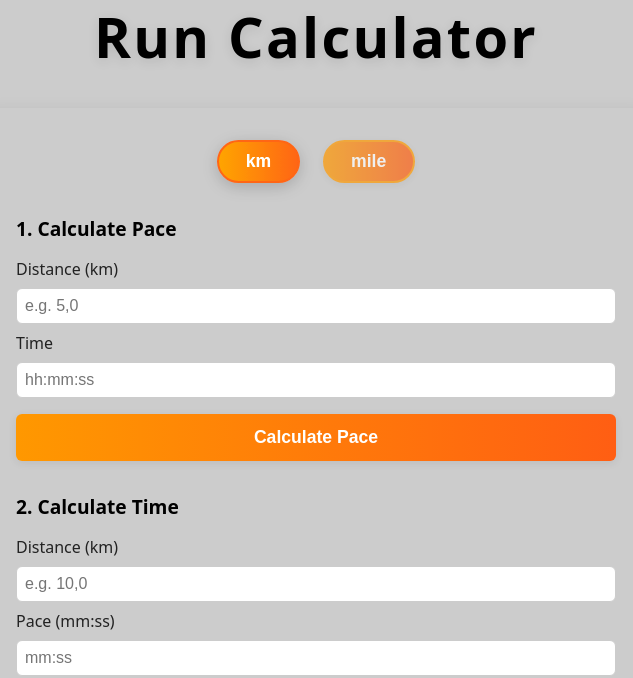
Test: Accessibility - aria-live regions › Pace result live region updates and has aria-live="polite"
This screenshot has width=633, height=678.
In the 1st field labelled "Distance (km)": (316, 306) [16, 288, 616, 324], type "10,0"
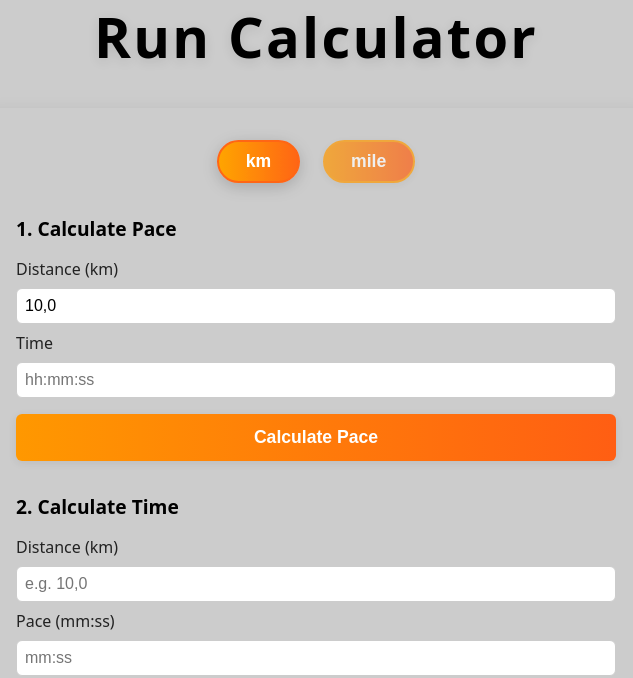
In the field named "Time for pace": (316, 380) [16, 362, 616, 398], type "50:00"
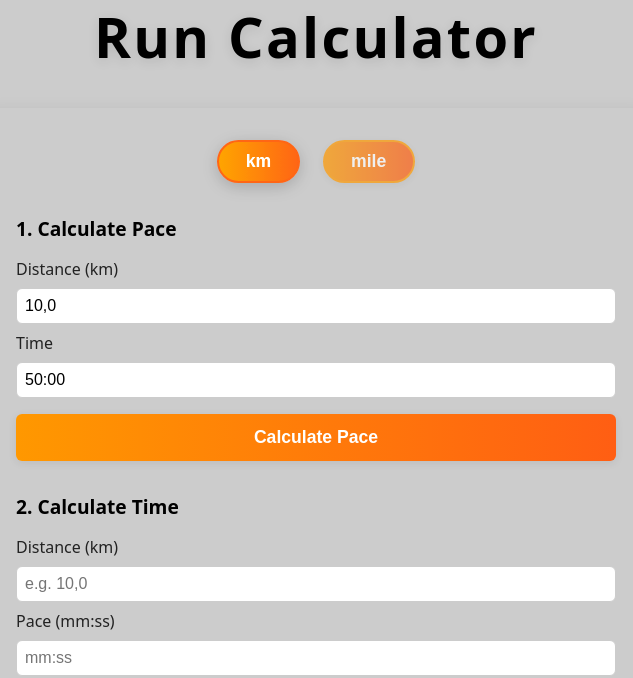
Click the button "Calculate Pace": (316, 437) [16, 414, 616, 461]
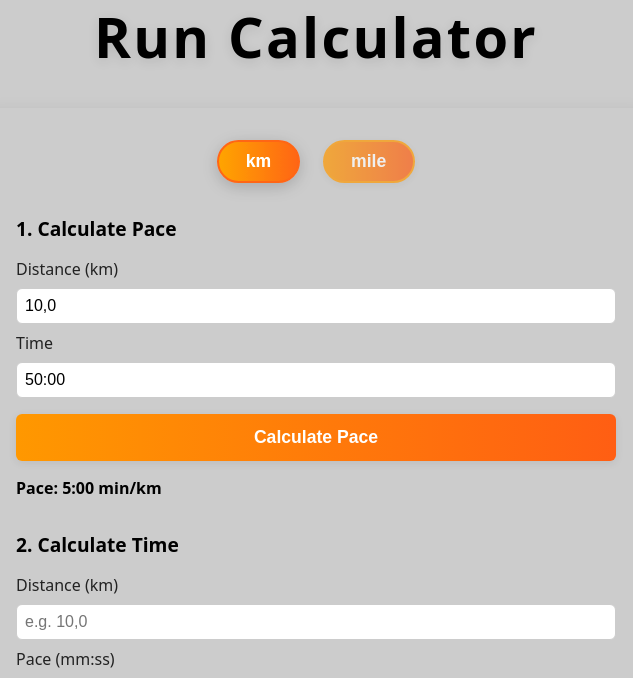
Expected: the text "Pace: 5:00 min/km" is shown, [16, 477, 162, 499]
